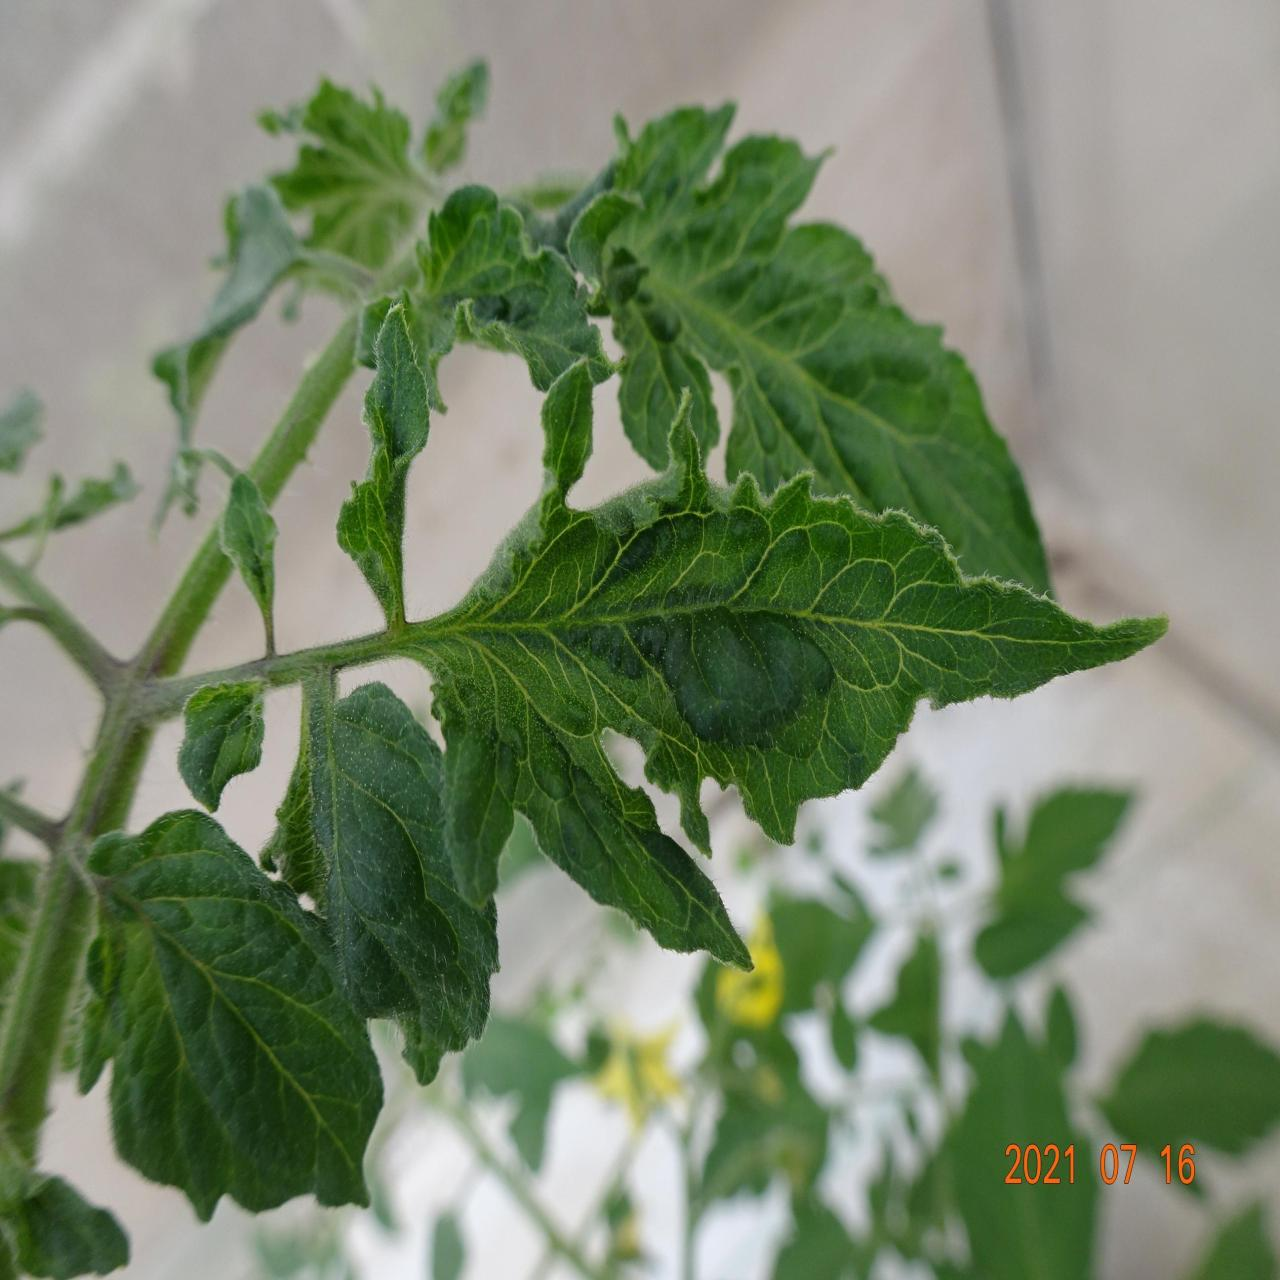T_L_R: (389, 363, 1166, 966), (570, 103, 1051, 592), (86, 811, 383, 1220), (267, 670, 496, 1080), (400, 183, 610, 407), (338, 304, 430, 628), (7, 1180, 127, 1280), (177, 681, 263, 812)
